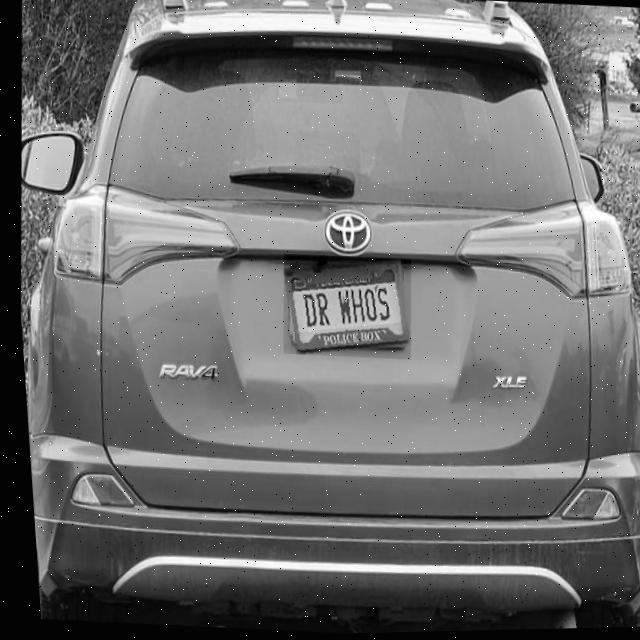LicensePlate: (280, 260, 405, 355)
